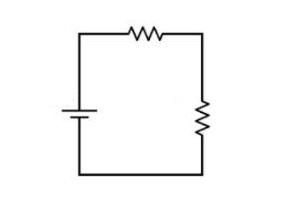resistor: (182, 82, 221, 146), (115, 18, 177, 46)
